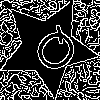Q: (22, 22, 84, 84)
